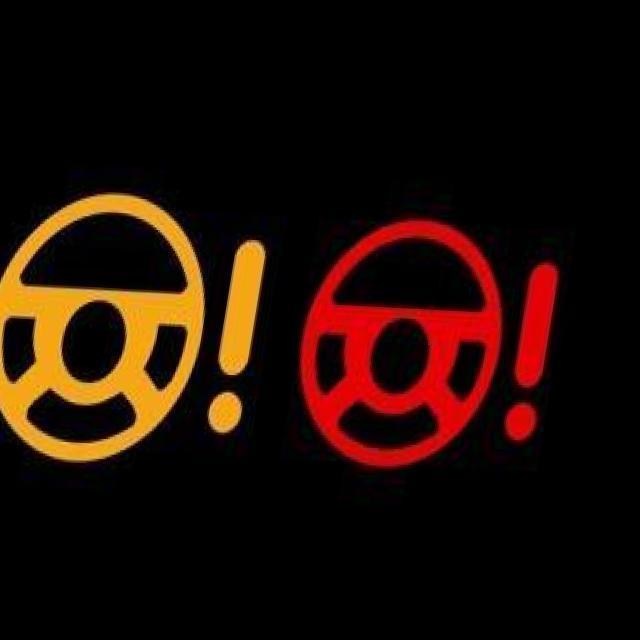Electronic Power Steering: (2, 190, 268, 460), (300, 219, 559, 475)
